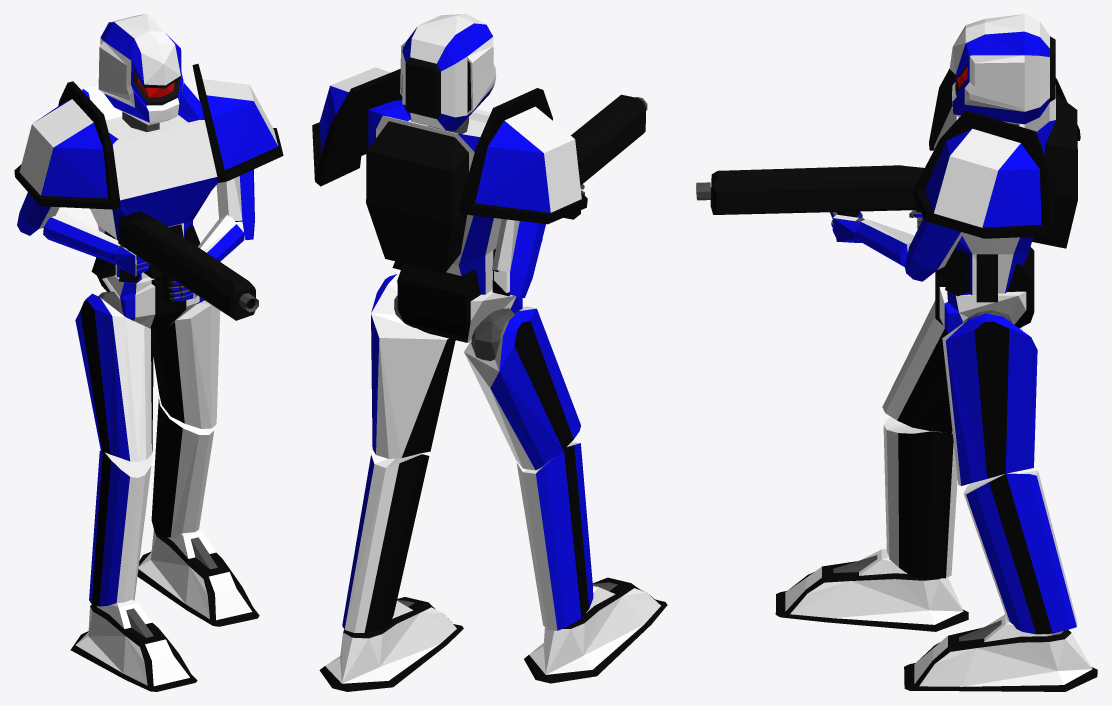
The model's file is robots_000012.obj.
3 renders of one model, left to right at view 1: azimuth 30°, elevation 25°; view 2: azimuth 150°, elevation 25°; view 3: azimuth 270°, elevation 25°, orthographic. The views are drawn at different scales.
Parts seen in each view (by area): view 1: Chest_plate_Cube.004, R_Thigh_Cube.005, Cube.002_Cube.059, Head_base_Cube.022, R_Shin_Cube.007, R_Foot.002_Cube.035, R_Thigh.002_Cube.027, Cube_Cube.001, R_Foot_Cube, R_Shin.002_Cube.029, Cube_Cube.021, Pelvis_Cube.006 (+5 smaller); view 2: Chest_plate_Cube.004, Cube.002_Cube.059, R_Thigh_Cube.005, R_Thigh.002_Cube.027, R_Shin_Cube.007, R_Shin.002_Cube.029, Head_base_Cube.022, R_Foot_Cube, R_Foot.002_Cube.035, Cube_Cube.021, Pelvis_Cube.006, Cube_Cube.001 (+2 smaller); view 3: Cube_Cube.021, R_Thigh.002_Cube.027, R_Shin.002_Cube.029, R_Shin_Cube.007, R_Foot.002_Cube.035, R_Foot_Cube, Head_base_Cube.022, Cube_Cube.001, Chest_plate_Cube.004, R_Thigh_Cube.005, Pelvis_Cube.006, L_Arm_Cube.014 (+3 smaller).
Part boxes in pixels (box(x1,y1,x2,y2)): Chest_plate_Cube.004: box(82, 83, 218, 282); R_Thigh_Cube.005: box(75, 293, 153, 461); Cube.002_Cube.059: box(14, 81, 120, 209); Head_base_Cube.022: box(98, 14, 183, 125); R_Shin_Cube.007: box(89, 450, 151, 606); R_Foot.002_Cube.035: box(137, 529, 259, 626); R_Thigh.002_Cube.027: box(153, 300, 220, 428); Cube_Cube.001: box(118, 211, 258, 320); R_Foot_Cube: box(70, 599, 197, 691); R_Shin.002_Cube.029: box(151, 398, 214, 537); Cube_Cube.021: box(192, 63, 283, 182); Pelvis_Cube.006: box(96, 257, 204, 330); Chest_plate_Cube.004: box(366, 100, 510, 296); Cube.002_Cube.059: box(459, 88, 587, 224); R_Thigh_Cube.005: box(464, 306, 580, 470); R_Thigh.002_Cube.027: box(371, 274, 455, 458); R_Shin_Cube.007: box(516, 442, 593, 630); R_Shin.002_Cube.029: box(342, 449, 429, 632); Head_base_Cube.022: box(400, 14, 496, 131); R_Foot_Cube: box(524, 577, 667, 683); R_Foot.002_Cube.035: box(319, 597, 463, 691); Cube_Cube.021: box(312, 67, 402, 186); Pelvis_Cube.006: box(396, 263, 522, 342); Cube_Cube.001: box(563, 94, 647, 219); Cube_Cube.021: box(913, 111, 1054, 238); R_Thigh.002_Cube.027: box(942, 313, 1037, 485); R_Shin.002_Cube.029: box(963, 466, 1077, 634); R_Shin_Cube.007: box(883, 417, 957, 579); R_Foot.002_Cube.035: box(904, 614, 1097, 691); R_Foot_Cube: box(775, 549, 968, 631); Head_base_Cube.022: box(949, 14, 1055, 124); Cube_Cube.001: box(696, 165, 924, 218); Chest_plate_Cube.004: box(934, 85, 1077, 302); R_Thigh_Cube.005: box(882, 300, 1022, 434); Pelvis_Cube.006: box(935, 247, 1034, 332); L_Arm_Cube.014: box(904, 218, 963, 281).
Bounding box in the file's own units: 1.32 × 3.04 × 1.76.
